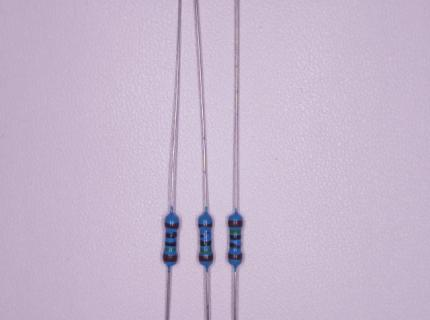Black band: (229, 243, 241, 249), (200, 240, 212, 246), (199, 233, 211, 238), (165, 233, 177, 238), (230, 235, 241, 240), (165, 242, 176, 247)
Brown band: (163, 254, 177, 262), (228, 220, 243, 227), (164, 222, 179, 229), (228, 253, 243, 260), (198, 255, 213, 261), (198, 223, 213, 228)
Green band: (164, 248, 176, 252), (200, 249, 212, 252), (230, 230, 241, 233)
